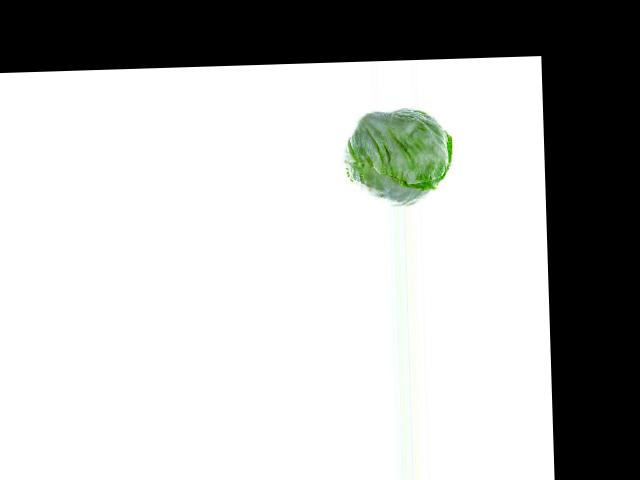lettuce: (344, 112, 452, 205)
